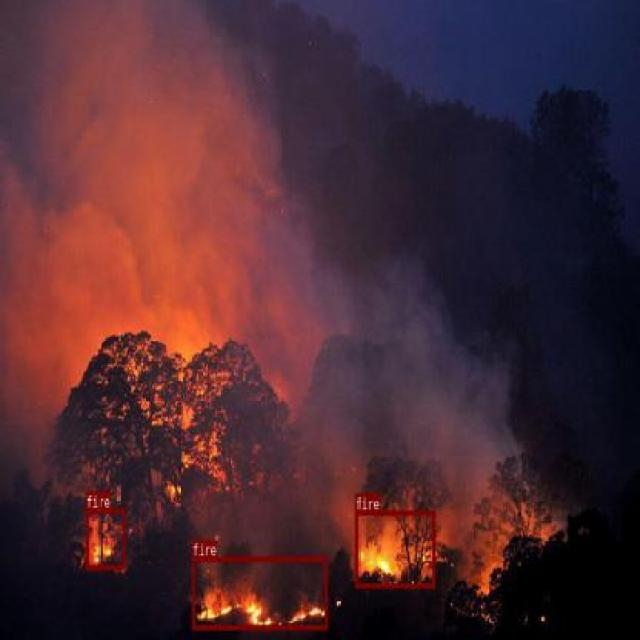fire: (191, 556, 327, 630), (354, 510, 434, 587), (85, 508, 124, 570)
